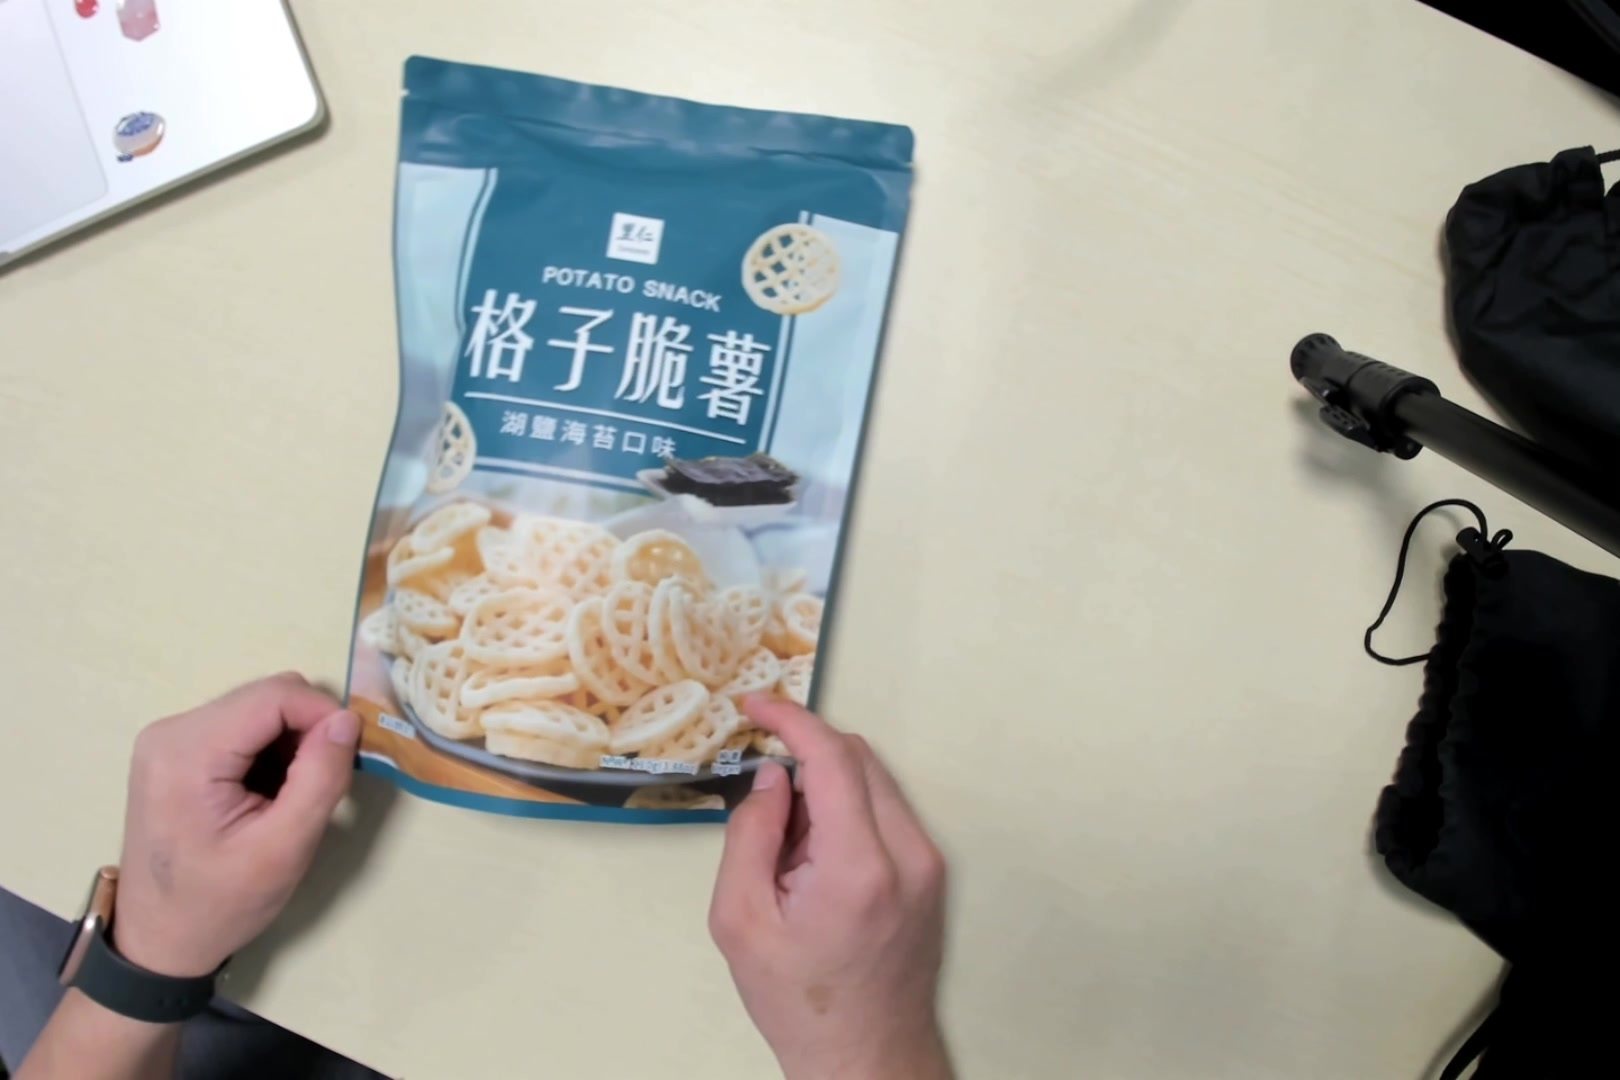PotatoChipsKeropok_100-199g_NonHalal_NonHealthy: (364, 58, 871, 828)
